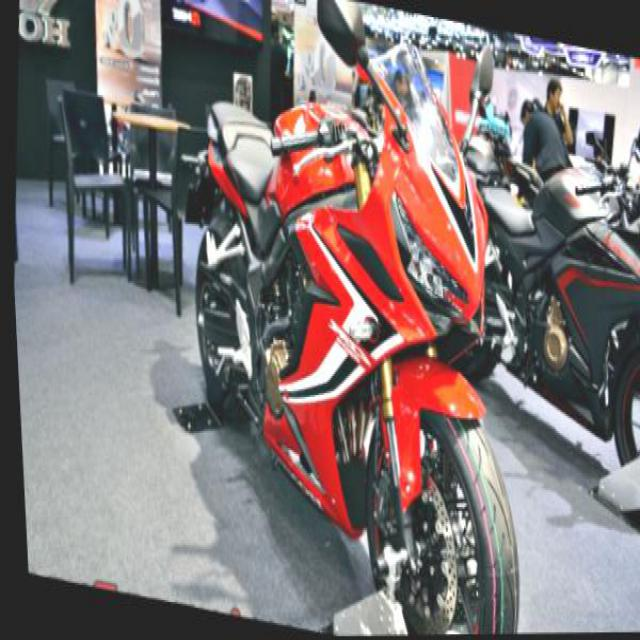CBR650R: (156, 0, 554, 636)
